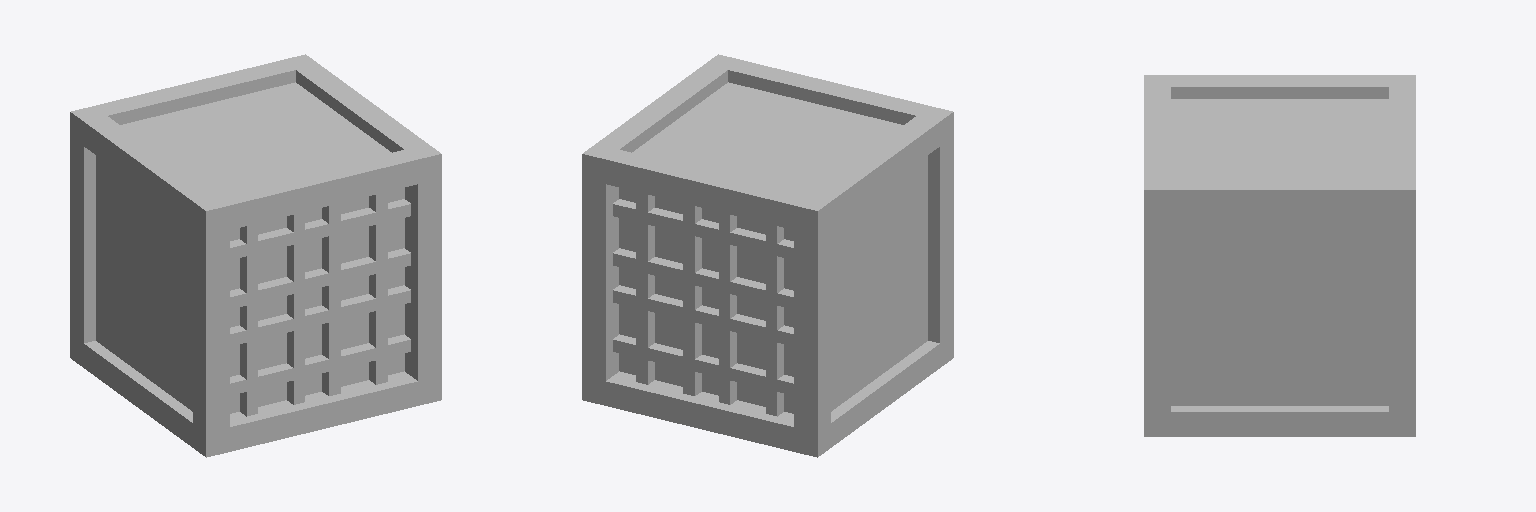
Rendered from caja3_entera.obj.
3 renders of one model, left to right at view 1: azimuth 30°, elevation 25°; view 2: azimuth 150°, elevation 25°; view 3: azimuth 270°, elevation 25°, orthographic.
Visible parts, largest first — view 1: object 1; view 2: object 1; view 3: object 1.
Part boxes in pixels (x1,y1,x2,y2): object 1: (70,54,441,457); object 1: (582,54,953,457); object 1: (1144,75,1415,436).
Bounding box in the file's own units: 2 × 2 × 2.